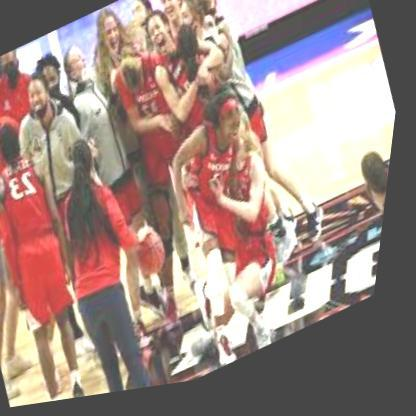basketball: (137, 230, 179, 285)
